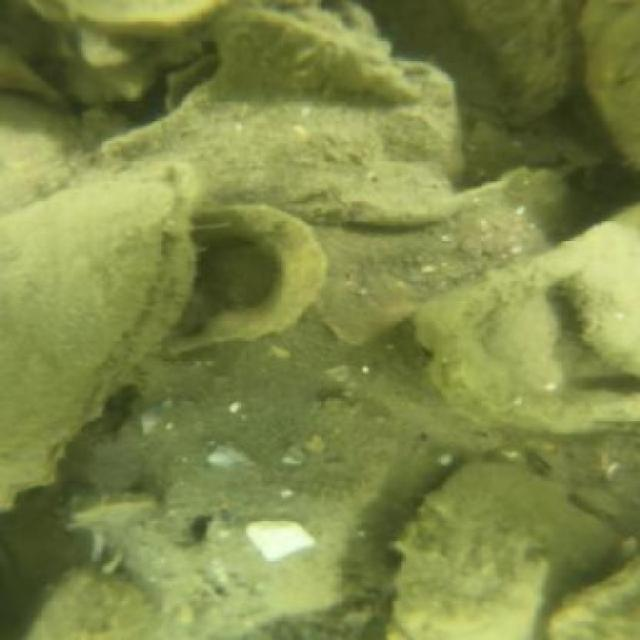Oyster-Closed: (4, 177, 193, 501)
Oyster-Indeterminate: (77, 390, 411, 638), (83, 63, 455, 225), (407, 198, 638, 436), (313, 164, 572, 336), (393, 463, 614, 632), (146, 198, 327, 361), (209, 3, 409, 96), (444, 0, 576, 132), (205, 496, 359, 606), (574, 0, 638, 174), (562, 232, 638, 376), (4, 94, 77, 210), (36, 564, 154, 629), (549, 557, 638, 633)
